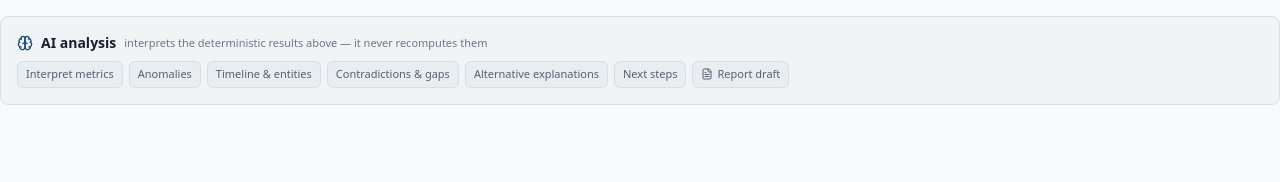
Test case: AnalysisPanel › never shows a passing check when the server sent none
Click the button with test id "analysis-action-interpret".
click(70, 74)  # box x1=17 y1=61 x2=123 y2=88
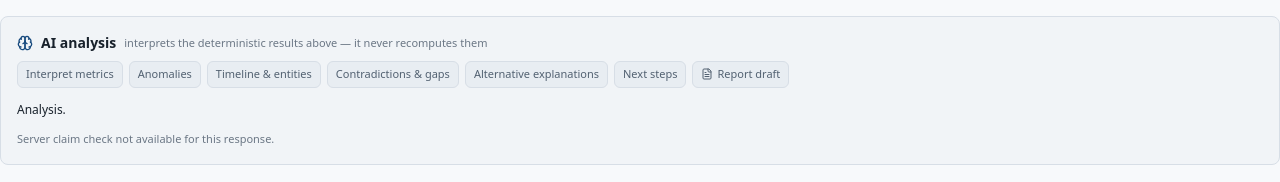
Expected: the element with test id "analysis-answer" is shown, x1=17 y1=100 x2=66 y2=118
Expected: the text "Server claim check not available for this response." is shown, x1=17 y1=131 x2=274 y2=146
